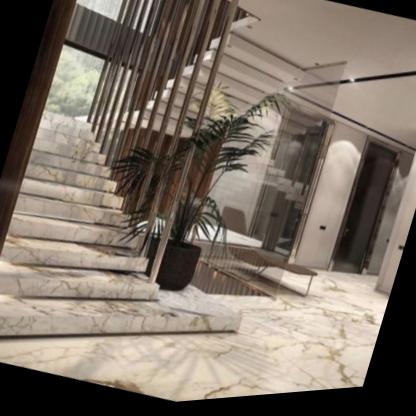Ceramic floor: (0, 277, 389, 405)
